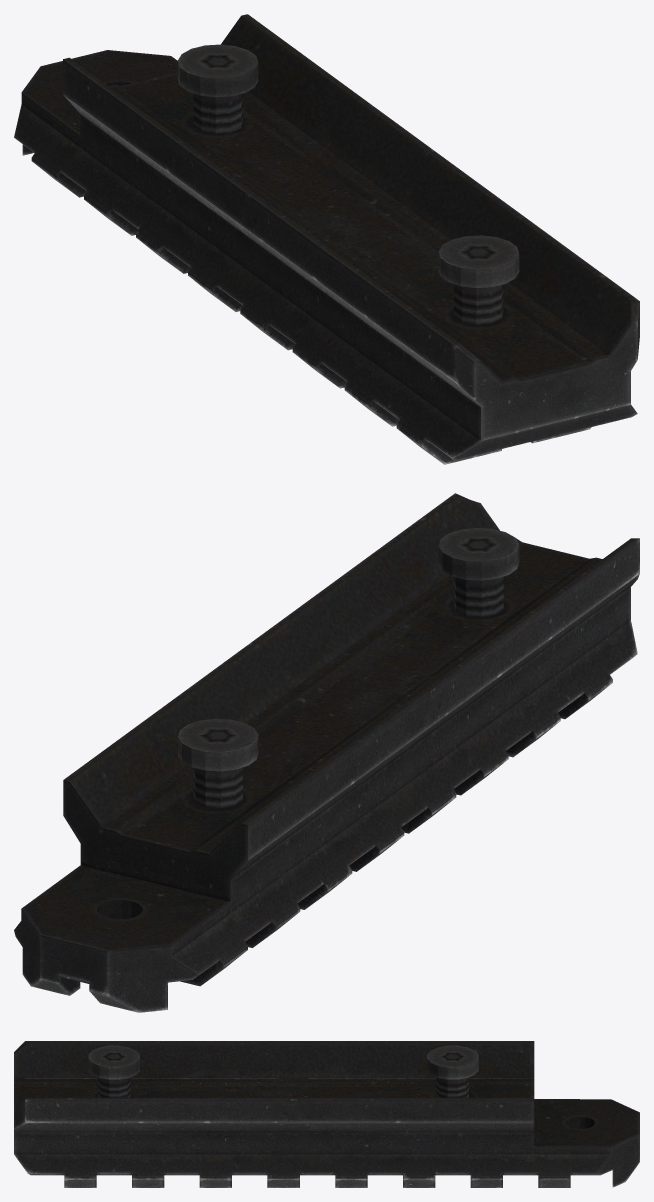
3 views of the same model, one above another, from view 1: azimuth 30°, elevation 25°; view 2: azimuth 150°, elevation 25°; view 3: azimuth 270°, elevation 25° (orthographic). The views are drawn at different scales.
Parts seen in each view (by area): view 1: TW_622efdf8ec80d870d349b4e5_PZ_Import; view 2: TW_622efdf8ec80d870d349b4e5_PZ_Import; view 3: TW_622efdf8ec80d870d349b4e5_PZ_Import.
Part boxes in pixels (x1=…): TW_622efdf8ec80d870d349b4e5_PZ_Import: x1=14, y1=14, x2=639, y2=464; TW_622efdf8ec80d870d349b4e5_PZ_Import: x1=14, y1=493, x2=639, y2=1012; TW_622efdf8ec80d870d349b4e5_PZ_Import: x1=14, y1=1041, x2=639, y2=1187.
Size of the model in its own units: 0.0123 by 0.0536 by 0.0102.
Materials: 1 (1 with a texture image).
